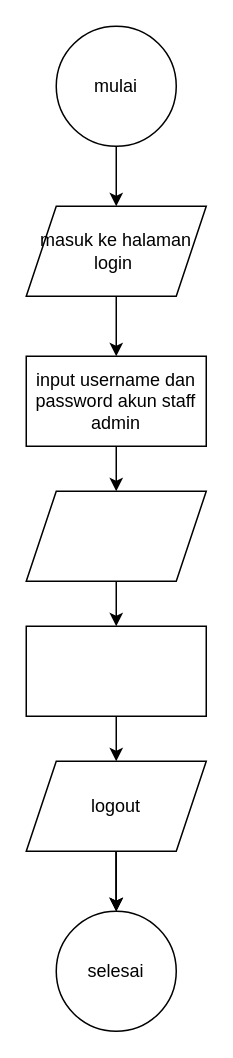
Image size: 233x1058. Some labels were removed from this diagram. Here are the shapes that lost their labels. From the top down, the centre of each, then its label:
At point 115,535: "masuk ke halaman sekolah".
At point 115,670: "lihat dasboard sekolah".
